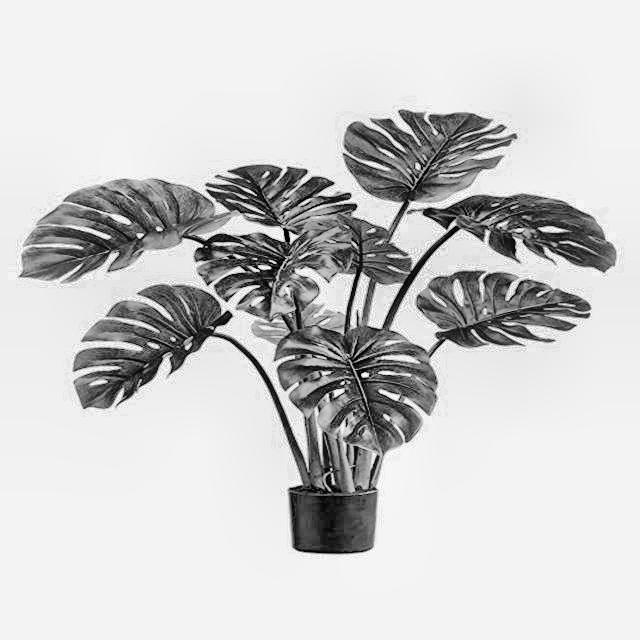plants: (21, 98, 618, 560)
